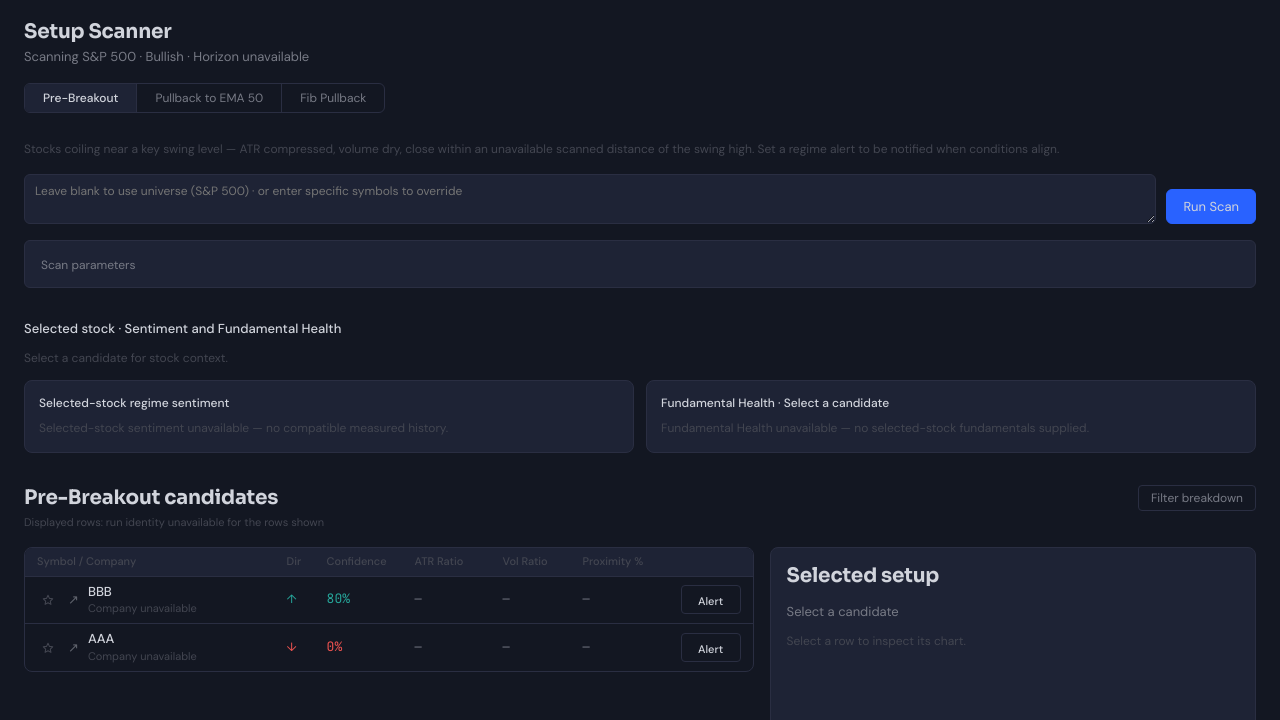
it: javascript scheme link is explicitly unavailable, never a constructed anchor
Click the button with aria-label "Select AAA". click: (142, 656)
box: x1=25 y1=624 x2=753 y2=671
(page scrolled)
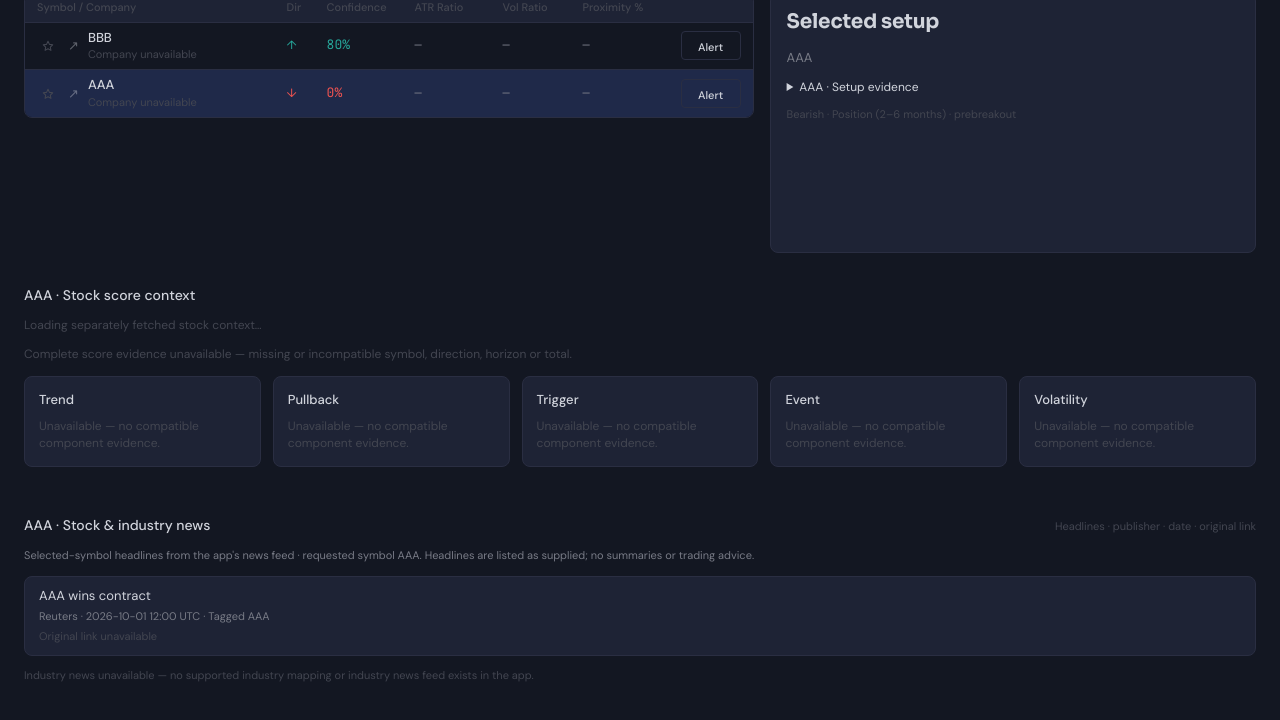
Expected: the text "AAA wins contract" is shown, x1=39 y1=586 x2=151 y2=604
Expected: the text "Original link unavailable" is shown, x1=39 y1=629 x2=157 y2=643
